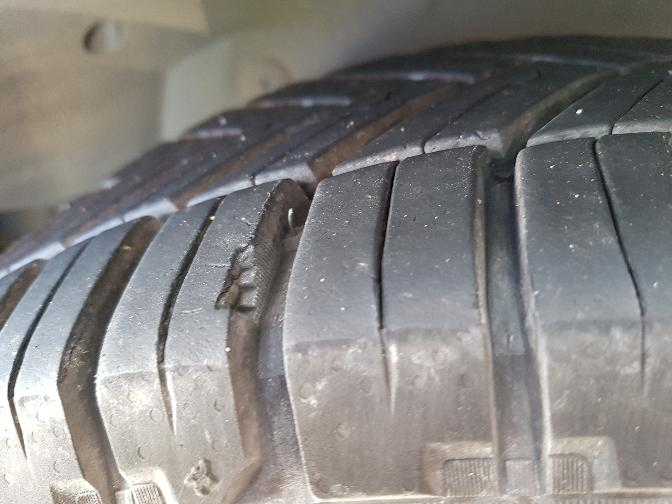temoin:90: (209, 227, 286, 335)
